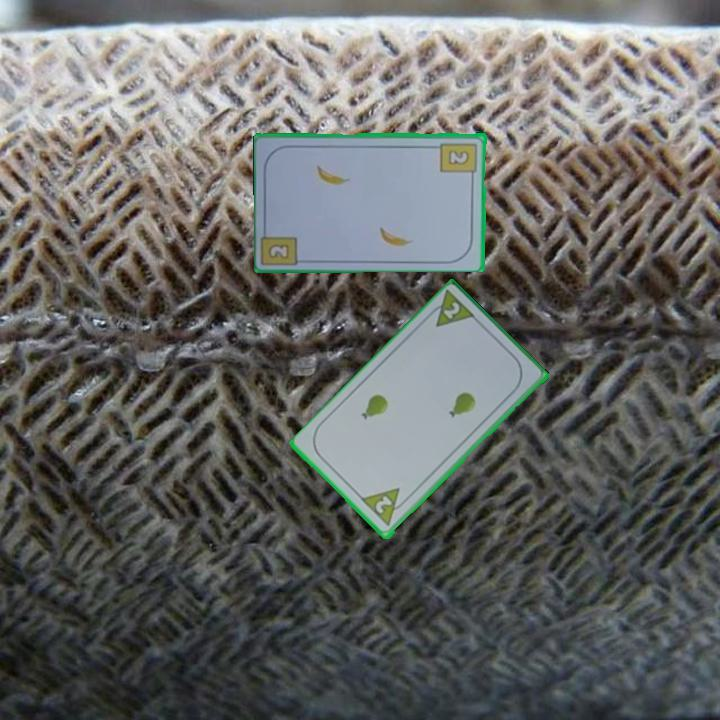2b: (438, 139, 480, 181), (267, 242, 290, 259)
2p: (423, 288, 479, 331), (371, 492, 395, 517)
